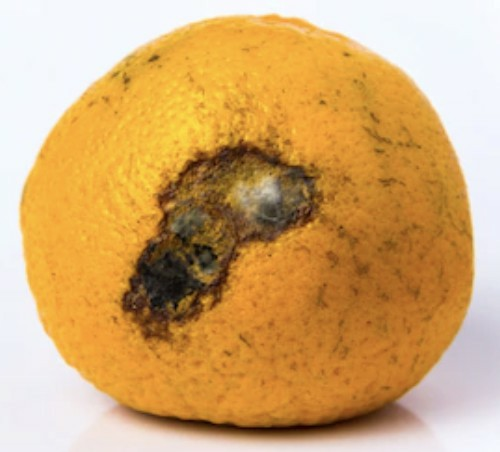rotten_orange: (18, 15, 477, 429)
